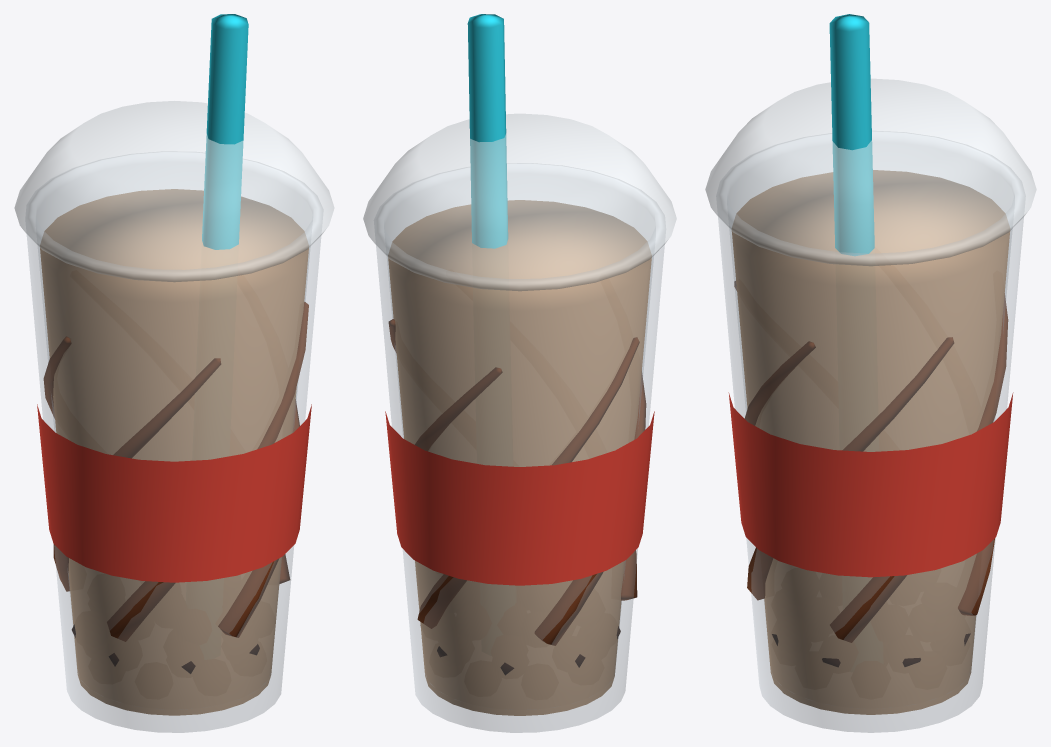
3 views of the same model, side by side, from view 1: azimuth 30°, elevation 25°; view 2: azimuth 150°, elevation 25°; view 3: azimuth 270°, elevation 25° (orthographic). The views are drawn at different scales.
Parts seen in each view (by area): view 1: glass, milk_tea, lid, sleeve, straw, sugar_streaks (×4); view 2: glass, milk_tea, lid, sleeve, straw, sugar_streaks (×4); view 3: glass, milk_tea, lid, sleeve, straw, sugar_streaks (×4).
Part boxes in pixels (<box>): glass: <box>26,152,322,732</box>; milk_tea: <box>40,189,308,715</box>; lid: <box>14,101,334,282</box>; sleeve: <box>37,404,311,582</box>; straw: <box>202,14,248,249</box>; sugar_streaks (×4): <box>43,302,308,641</box>; glass: <box>374,163,665,732</box>; milk_tea: <box>388,200,651,715</box>; lid: <box>363,113,676,291</box>; sleeve: <box>385,411,654,585</box>; straw: <box>467,14,508,248</box>; sugar_streaks (×4): <box>415,337,646,645</box>; glass: <box>716,131,1025,732</box>; milk_tea: <box>732,170,1009,714</box>; lid: <box>705,78,1036,266</box>; sleeve: <box>728,392,1013,577</box>; straw: <box>829,14,874,255</box>; sugar_streaks (×4): <box>744,295,1008,642</box>.
Bounding box in the file's own units: 0.092 × 0.2116 × 0.092.
